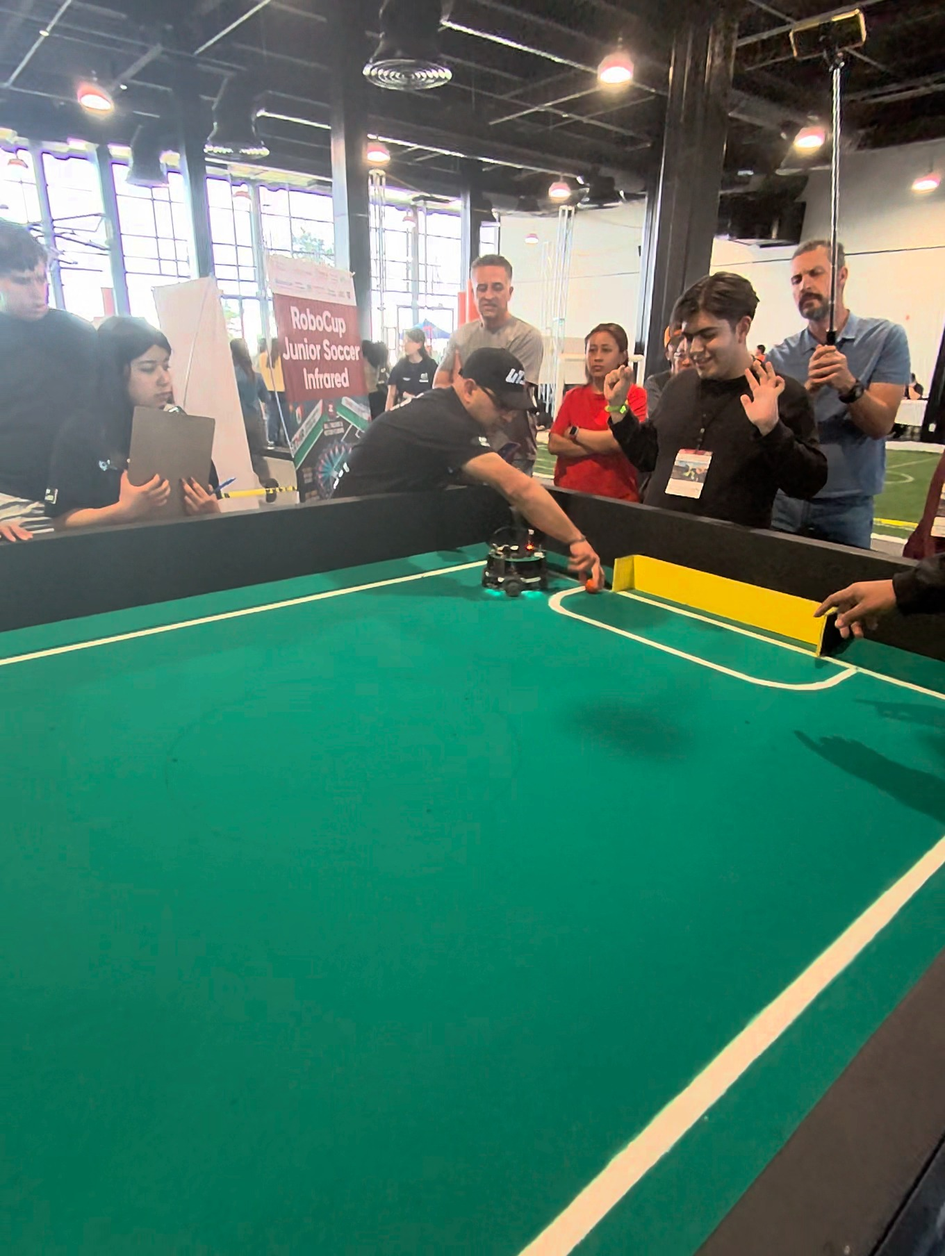Robot: (480, 501, 548, 609)
pelota: (579, 576, 616, 603)
